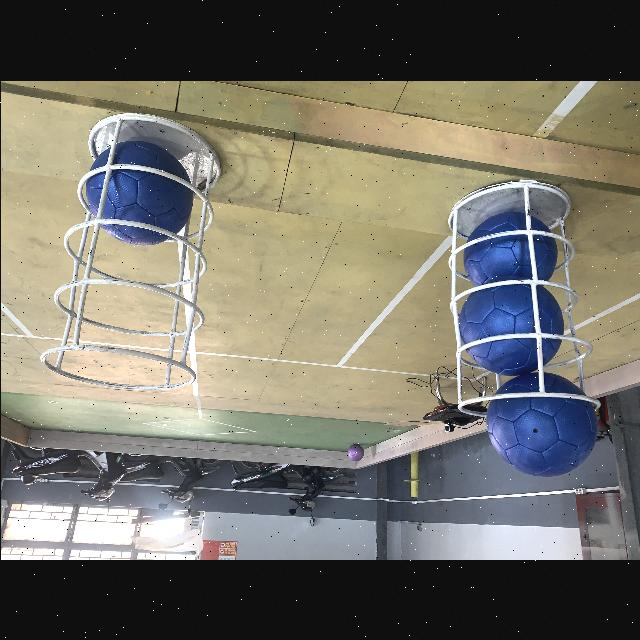B: (84, 142, 192, 246), (484, 375, 594, 477), (458, 281, 564, 374), (459, 205, 563, 288)
